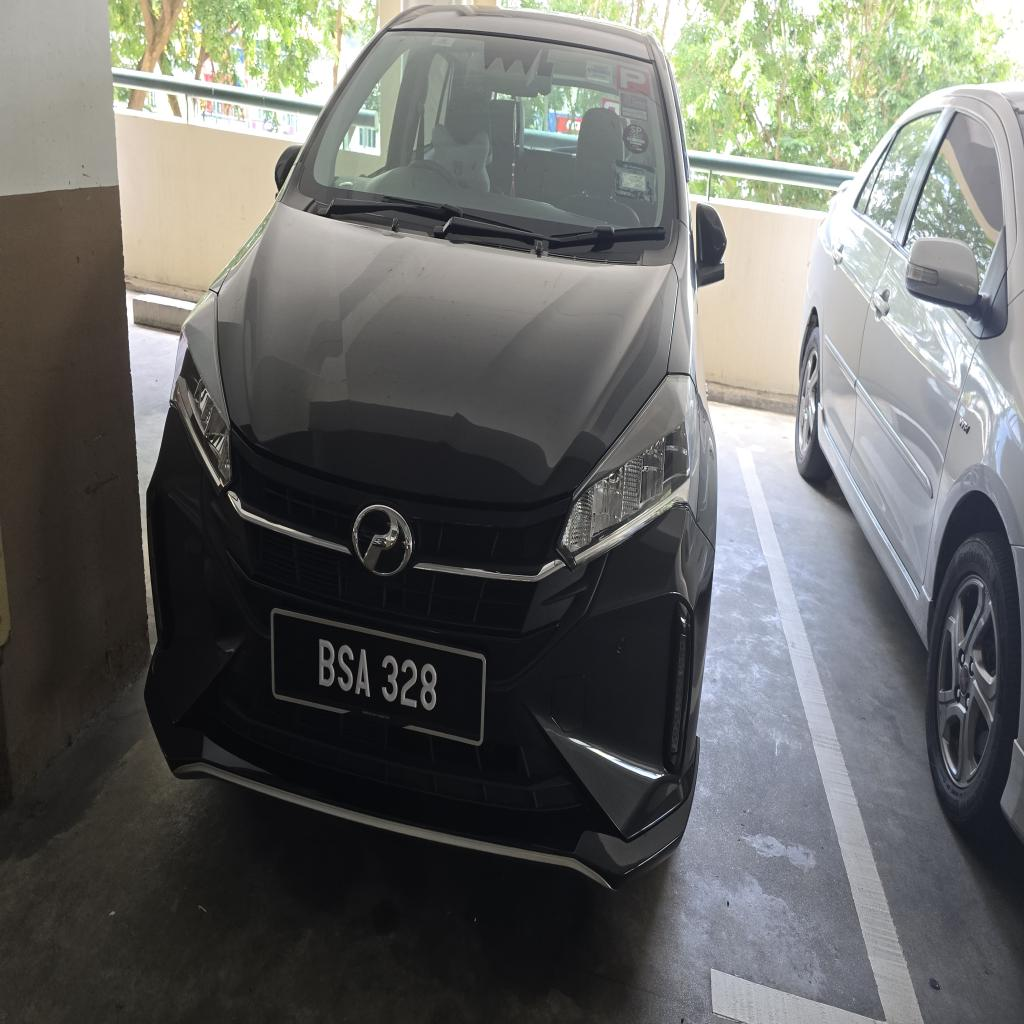car: (146, 7, 724, 885)
car plate: (271, 609, 485, 744)
